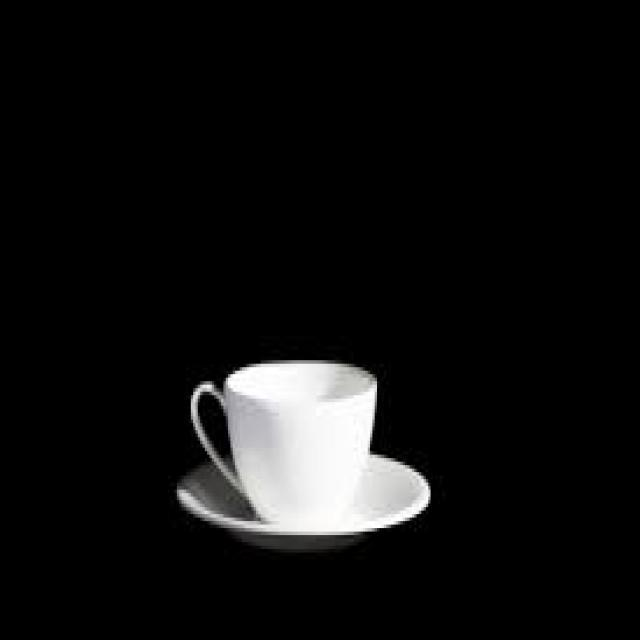taza: (177, 346, 389, 531)
